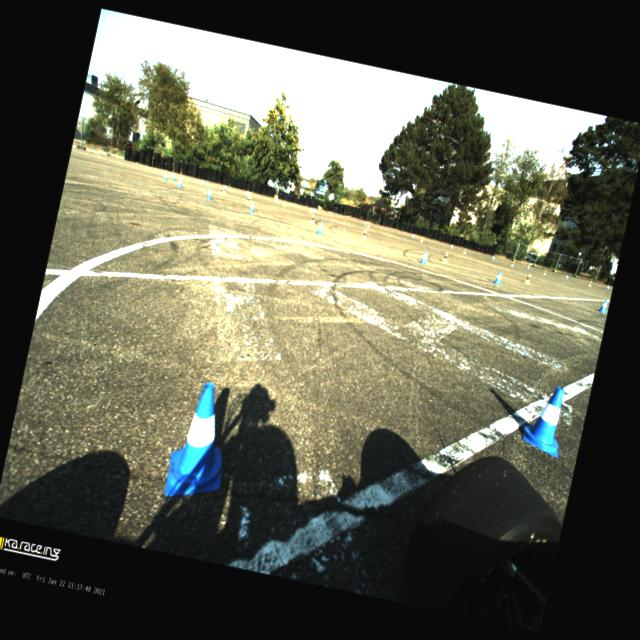blue_cone: (162, 378, 240, 507), (518, 380, 572, 458), (598, 298, 608, 312), (493, 270, 502, 284), (420, 250, 428, 264), (316, 220, 324, 233), (206, 188, 213, 198), (248, 202, 255, 212), (176, 178, 182, 188), (170, 172, 177, 180), (162, 172, 168, 180), (200, 179, 204, 185), (312, 207, 316, 212), (606, 284, 609, 290), (411, 233, 414, 238), (526, 264, 529, 269), (275, 198, 278, 202), (450, 244, 452, 248), (492, 256, 494, 260)
yellow_cone: (360, 228, 368, 239), (441, 252, 448, 264), (308, 214, 316, 224), (524, 273, 531, 284), (245, 196, 250, 204), (218, 187, 223, 194), (222, 185, 227, 192), (309, 206, 313, 212), (510, 260, 514, 266), (462, 248, 466, 254), (248, 192, 252, 198), (588, 280, 592, 286), (283, 200, 286, 206), (543, 269, 546, 274)
